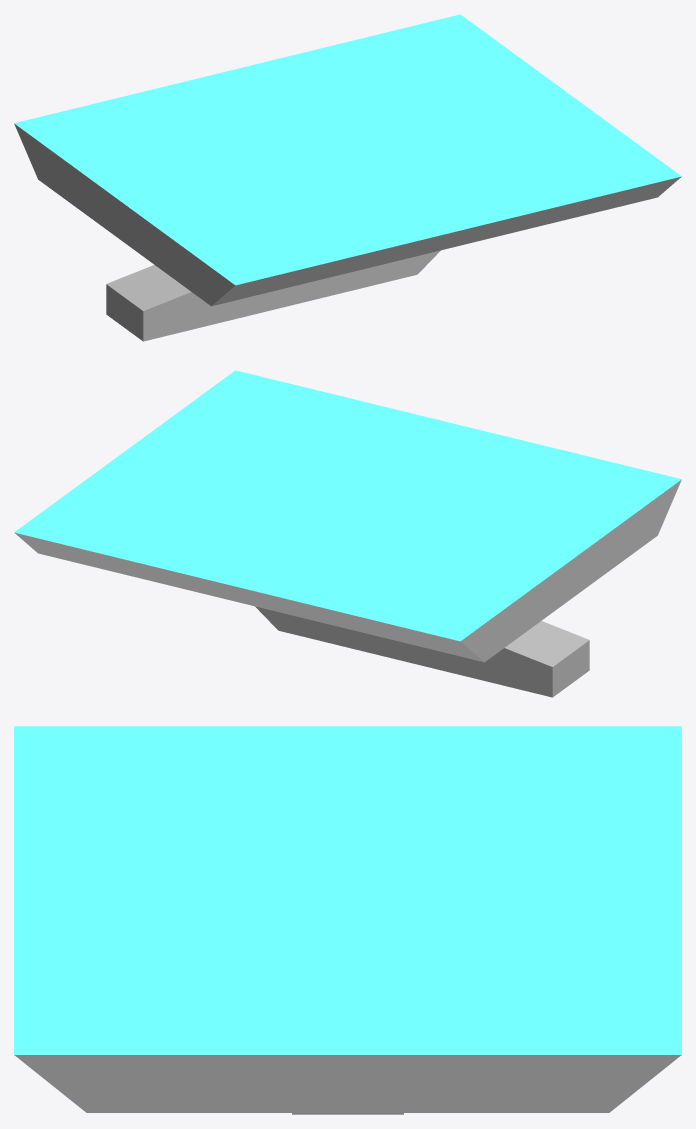
Rendered from tablecollision.glb.
The picture shows the model from 3 angles, top to bottom: view 1: azimuth 30°, elevation 25°; view 2: azimuth 150°, elevation 25°; view 3: azimuth 270°, elevation 25°; orthographic projection. The views are drawn at different scales.
Parts seen in each view (by area): view 1: collisiontables; view 2: collisiontables; view 3: collisiontables.
Boxes of the visible parts, x1,y1,x2,y2 form: collisiontables: [14, 14, 681, 341]; collisiontables: [14, 370, 681, 697]; collisiontables: [14, 726, 681, 1114].
Bounding box in the file's own units: 1097 × 290 × 943.
